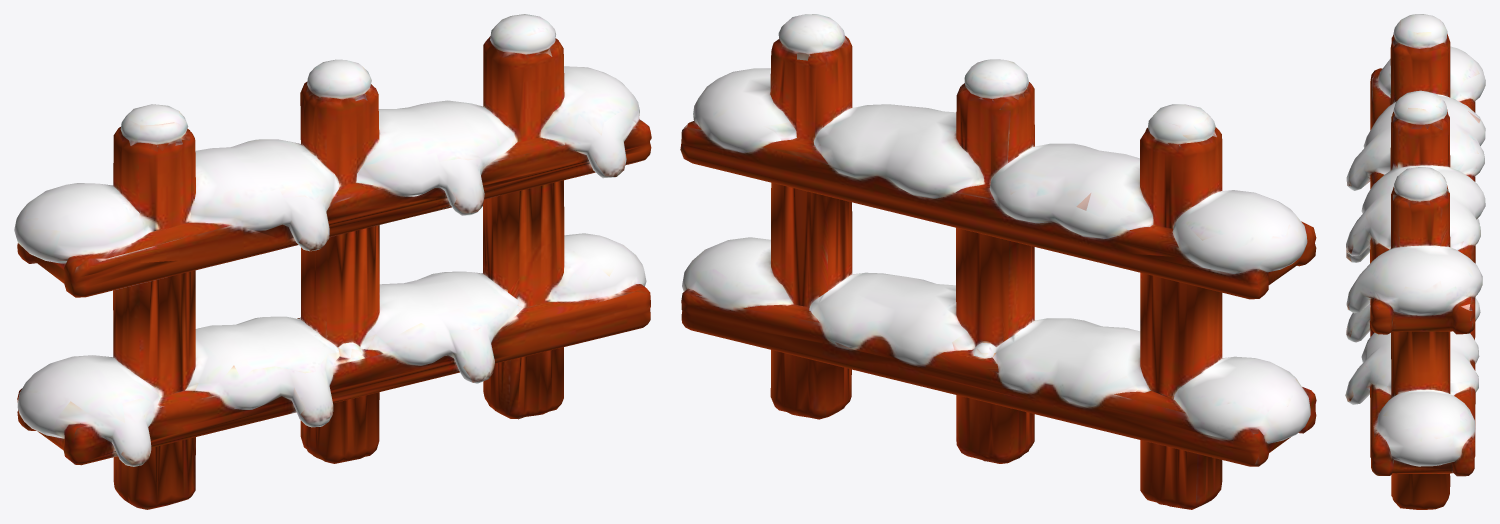
File: fence.glb
The picture shows the model from 3 angles, left to right: view 1: azimuth 30°, elevation 25°; view 2: azimuth 150°, elevation 25°; view 3: azimuth 270°, elevation 25°; orthographic projection. The views are drawn at different scales.
Parts seen in each view (by area): view 1: fence; view 2: fence; view 3: fence.
Part boxes in pixels (x1,y1,x2,y2): fence: [14, 14, 651, 509]; fence: [680, 14, 1316, 509]; fence: [1345, 14, 1485, 509].
Bounding box in the file's own units: 1.65 × 1 × 0.3852.
Materials: 1 (1 with a texture image).
